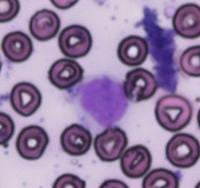L: (68, 72, 130, 128)
